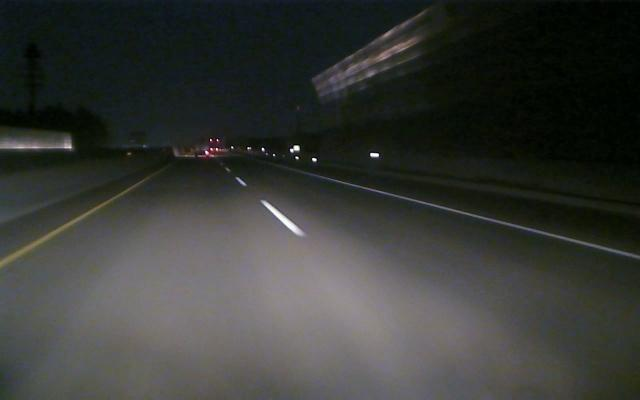lane: (339, 181, 638, 261), (1, 192, 123, 266), (234, 177, 307, 236)
